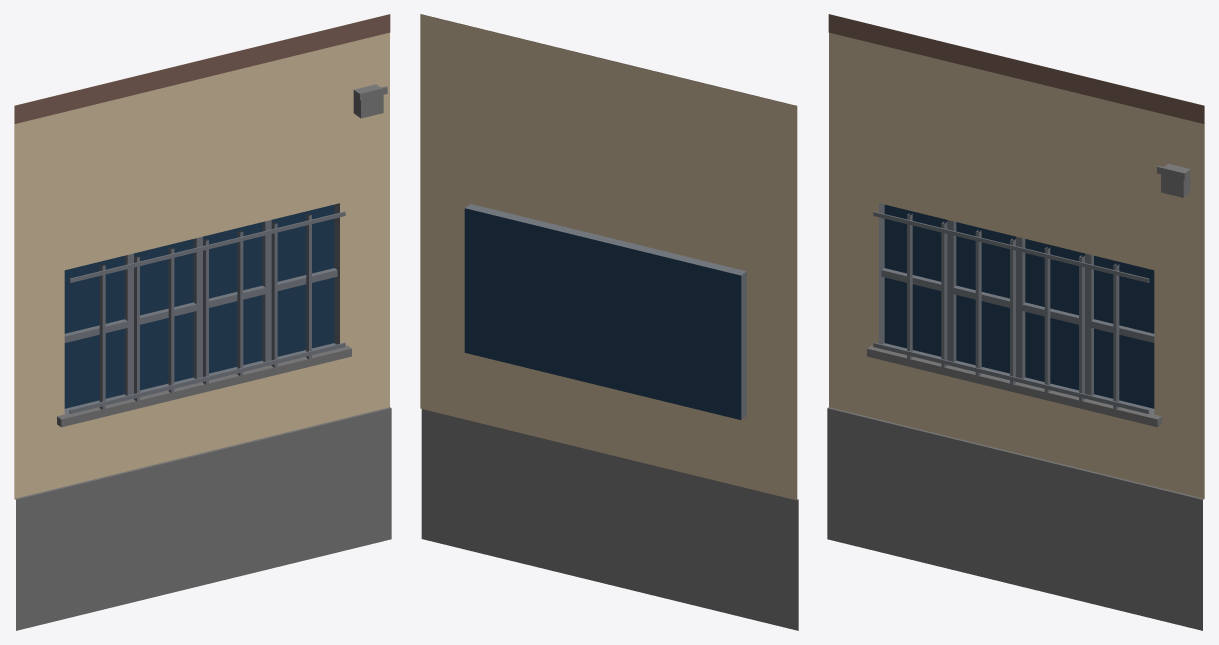
Rendered from base-w1_close.fbx.
3 renders of one model, left to right at view 1: azimuth 30°, elevation 25°; view 2: azimuth 150°, elevation 25°; view 3: azimuth 330°, elevation 25°, orthographic.
Parts seen in each view (by area): view 1: a2004/500/base-w1_close; view 2: a2004/500/base-w1_close; view 3: a2004/500/base-w1_close.
Part boxes in pixels (<box>): a2004/500/base-w1_close: <box>14,14,391,630</box>; a2004/500/base-w1_close: <box>420,14,798,630</box>; a2004/500/base-w1_close: <box>827,14,1204,630</box>.
Bounding box in the file's own units: 3 × 4 × 0.2.
